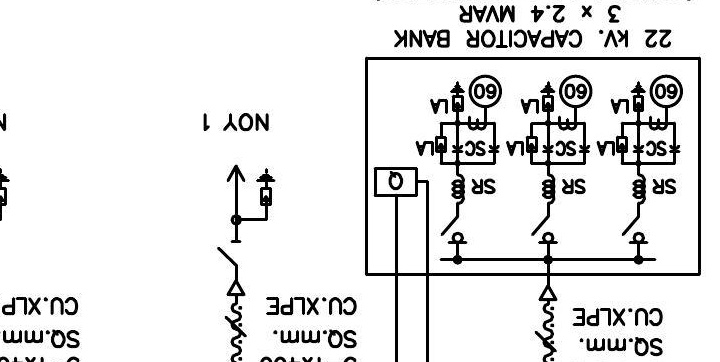22_cap_bank: (364, 56, 702, 277)
22_ds_la_out: (216, 164, 276, 266)
Q: (373, 166, 419, 197)
terminator_single: (537, 284, 558, 302), (226, 279, 246, 297)
